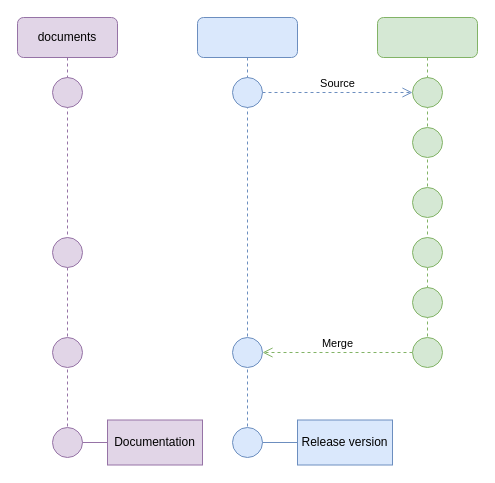
Some shapes in this 495 by 483 pixel diagram are drawn without their labels. Here are the shapes that lost their labels. From the top down, the box of each, then its label:
(376, 16, 478, 338): develop
(196, 16, 298, 428): main
